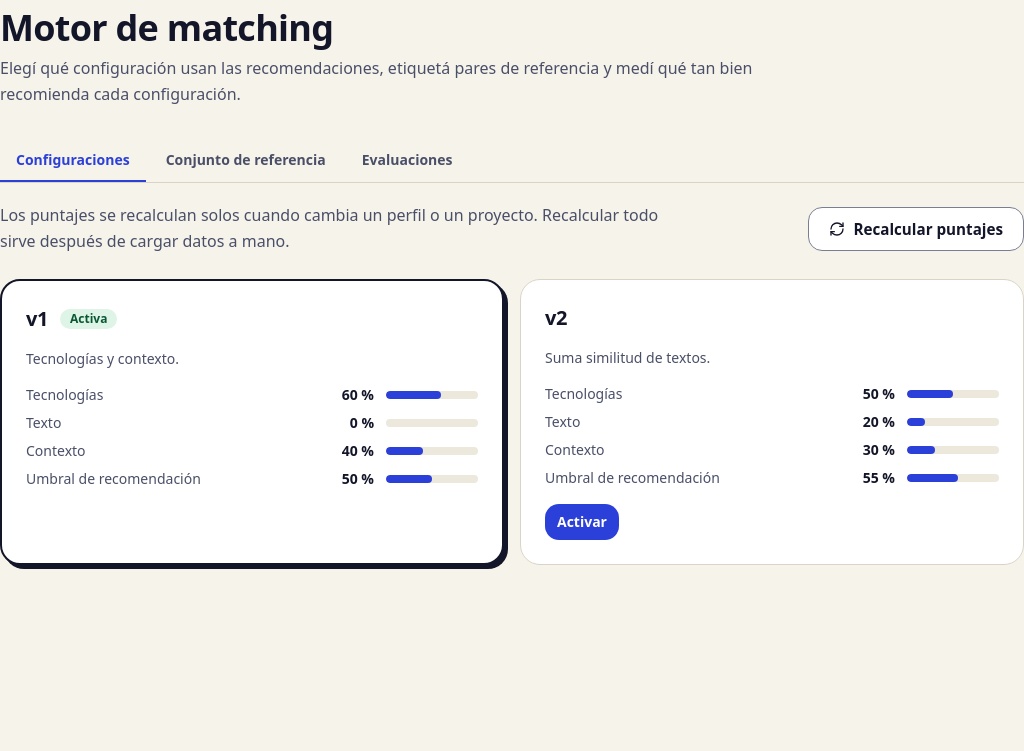
MotorAdminPage › Conjunto de referencia › ofrece solo los estudiantes con perfil y los proyectos que puntúa el motor (sin borradores)
Click the tab "Conjunto de referencia": (246, 161) [150,139,342,183]
(page scrolled)
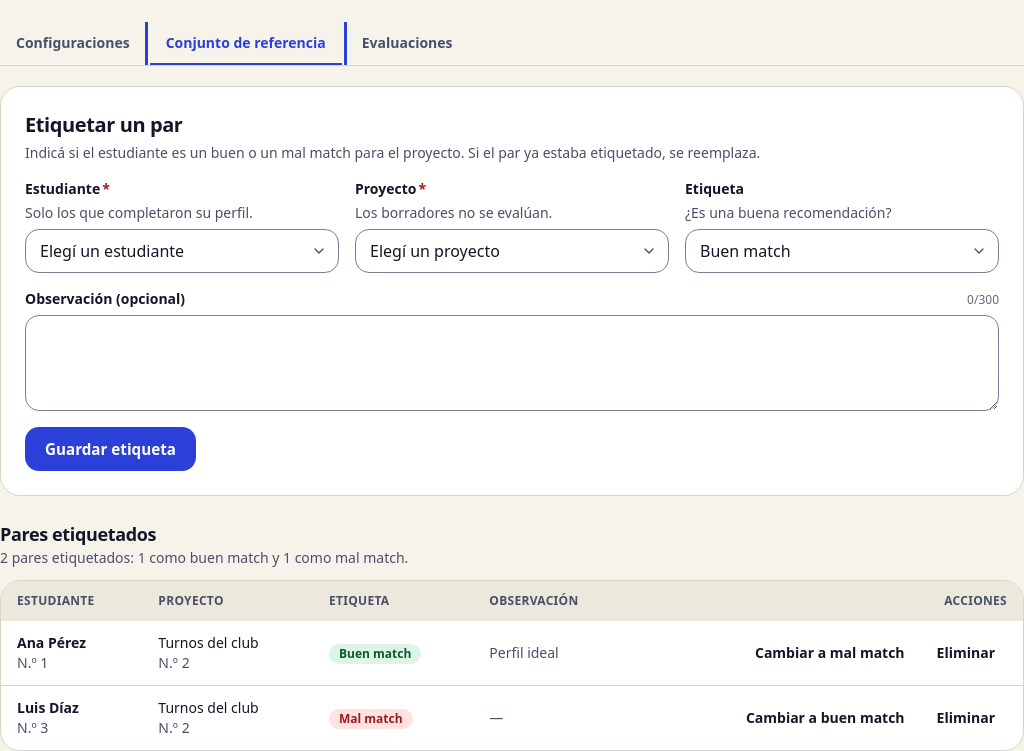
Result: the text "Ana Pérez" is shown at [17,633,86,652]
